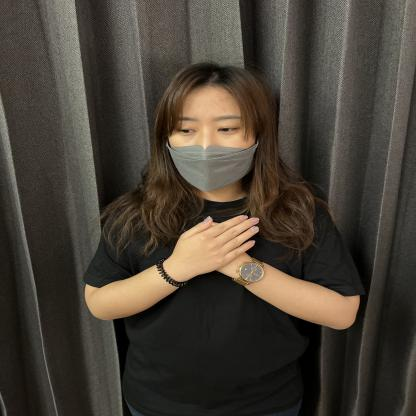Grieve: (137, 183, 282, 300)
